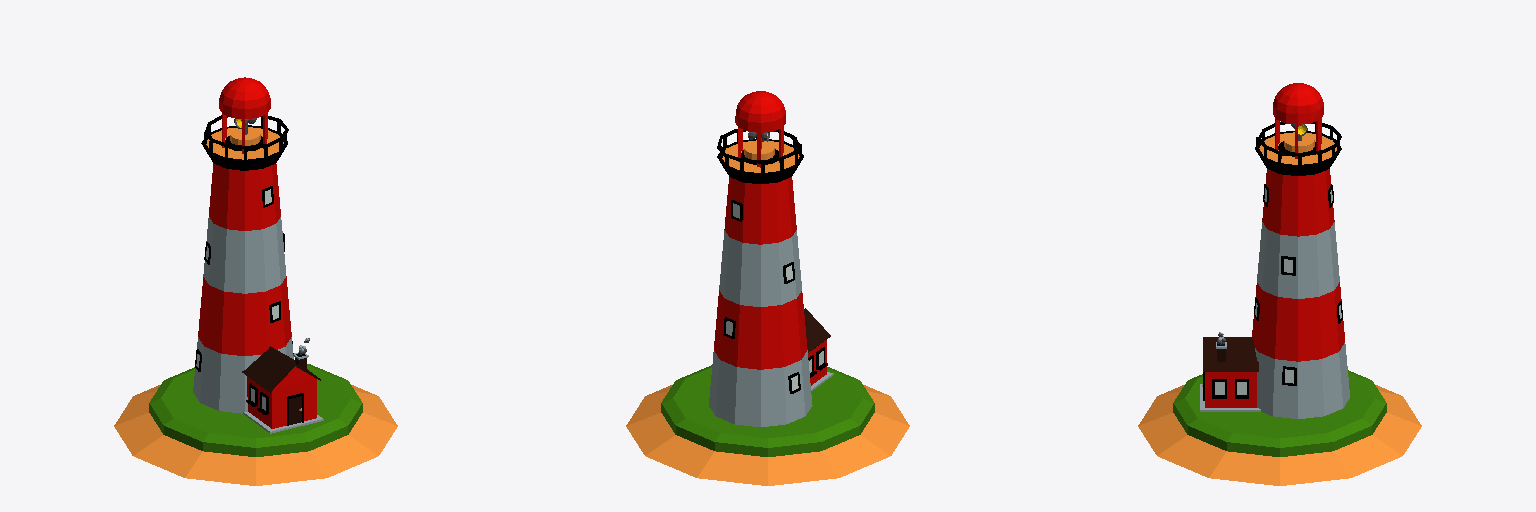
The model's file is skyhouse.obj.
The picture shows the model from 3 angles: view 1: azimuth 30°, elevation 25°; view 2: azimuth 150°, elevation 25°; view 3: azimuth 270°, elevation 25°; orthographic projection.
Visible parts, largest first — view 1: model; view 2: model; view 3: model.
Boxes of the visible parts, box(x1,y1,x2,y2) form: model: box(114, 77, 397, 485); model: box(626, 91, 909, 485); model: box(1138, 83, 1421, 485).
Size of the model in its own units: 1.1 by 1.46 by 1.1.